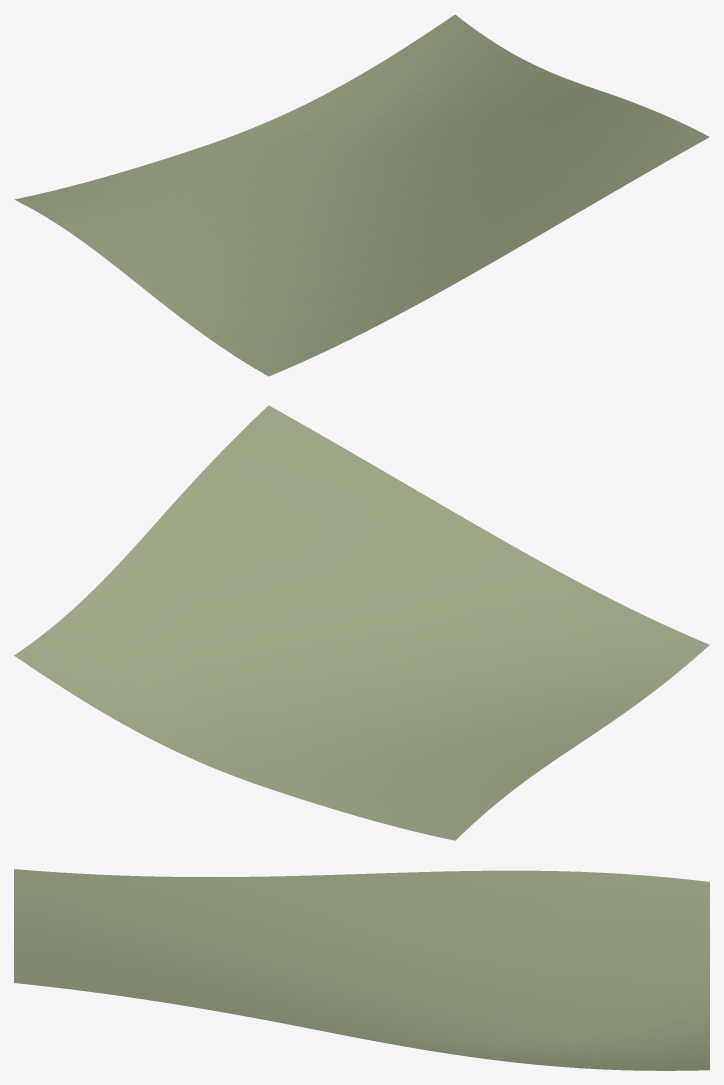
Rendered from expanse-15-17.glb.
3 renders of one model, top to bottom at view 1: azimuth 30°, elevation 25°; view 2: azimuth 150°, elevation 25°; view 3: azimuth 270°, elevation 25°, orthographic. The views are drawn at different scales.
Visible parts, largest first — view 1: expanse-15-17; view 2: expanse-15-17; view 3: expanse-15-17.
Part boxes in pixels (<box>): expanse-15-17: <box>14,14,709,376</box>; expanse-15-17: <box>14,405,709,840</box>; expanse-15-17: <box>14,869,709,1070</box>.
Bounding box in the file's own units: 256 × 78.78 × 256.
